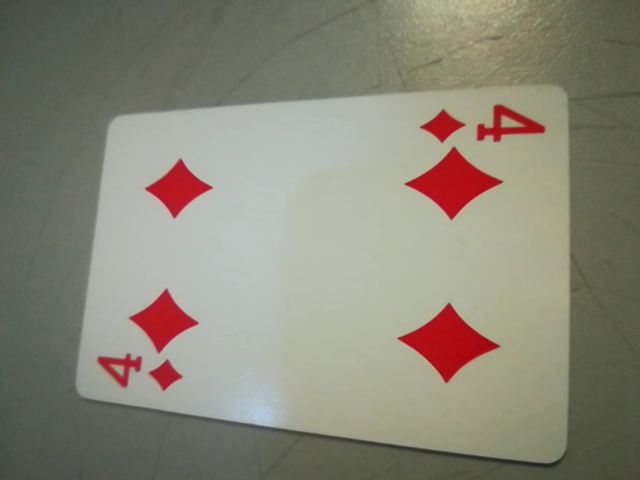fk 4: (410, 104, 556, 151)
